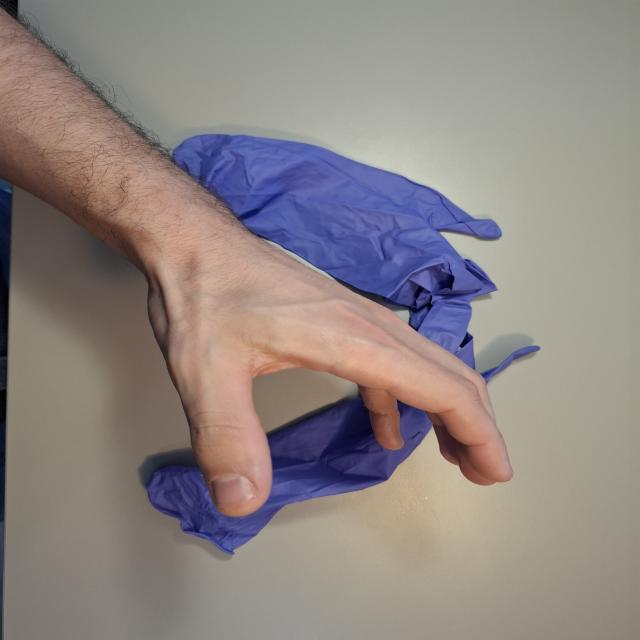glove_off: (140, 207, 522, 519)
